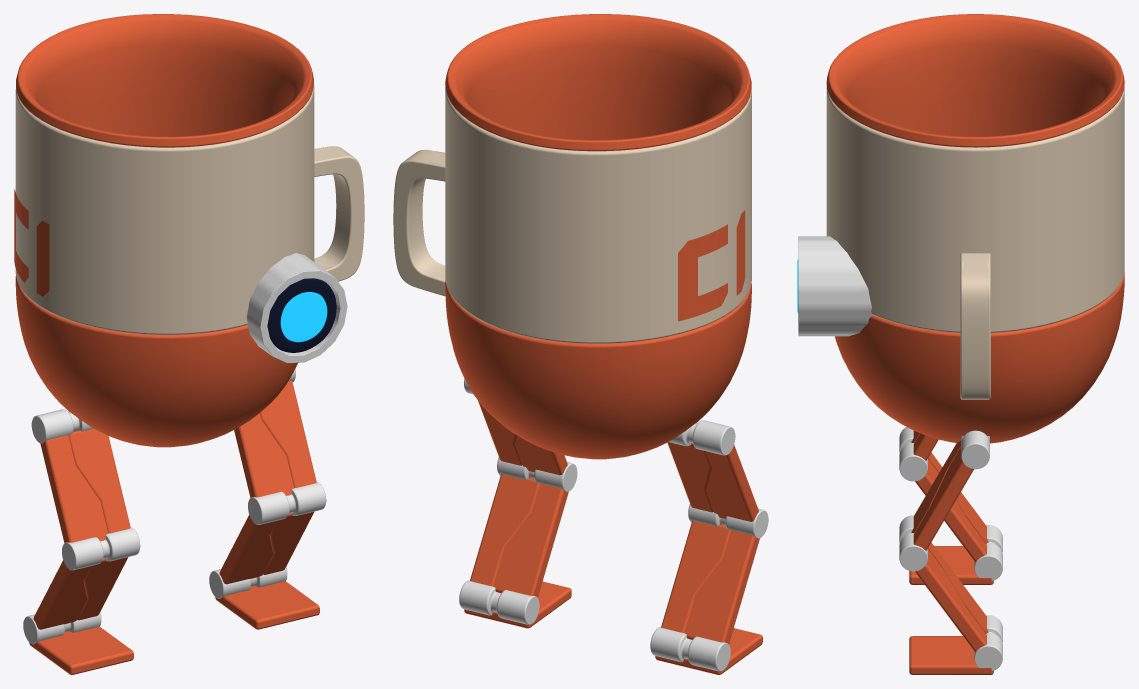
Rendered from robot_cup.glb.
3 renders of one model, left to right at view 1: azimuth 30°, elevation 25°; view 2: azimuth 150°, elevation 25°; view 3: azimuth 270°, elevation 25°, orthographic. The views are drawn at different scales.
Parts seen in each view (by area): view 1: Roundcube, Roundcube.001, Cylinder.001, Cube, Cube.003, Cube.001, Cube.013, Cube.020, Cube.010, Cube.011, Cube.009, Cube.019 (+8 smaller); view 2: Roundcube, Roundcube.001, Cube, Cube.019, Cube.009, Cube.017, Cube.007, Plane, Cube.003, Cylinder.004, Cylinder.007, Cube.001 (+7 smaller); view 3: Roundcube, Roundcube.001, Cylinder.001, Cube, Cube.020, Cube.017, Cube.011, Cube.007, Cube.010, Cylinder.006, Cylinder.004, Cylinder.007 (+5 smaller).
Part boxes in pixels (box(x1,y1,x2,y2)): Roundcube: box(15, 86, 314, 447); Roundcube.001: box(16, 14, 313, 147); Cylinder.001: box(246, 253, 347, 363); Cube: box(314, 146, 364, 281); Cube.003: box(40, 435, 108, 542); Cube.001: box(68, 429, 130, 533); Cube.013: box(234, 413, 294, 497); Cube.020: box(215, 581, 319, 629); Cube.010: box(29, 626, 133, 674); Cube.011: box(260, 381, 316, 487); Cube.009: box(33, 560, 90, 629); Cube.019: box(219, 515, 276, 584); Roundcube: box(445, 86, 751, 459); Roundcube.001: box(445, 14, 751, 151); Cube: box(393, 149, 445, 296); Cube.019: box(493, 483, 568, 597); Cube.009: box(684, 530, 759, 644); Cube.017: box(470, 474, 539, 586); Cube.007: box(661, 521, 730, 632); Plane: box(678, 210, 745, 321); Cube.003: box(705, 445, 758, 521); Cylinder.004: box(650, 627, 730, 671); Cylinder.007: box(459, 580, 539, 624); Cube.001: box(667, 442, 713, 512); Roundcube: box(826, 86, 1124, 443); Roundcube.001: box(826, 14, 1124, 147); Cylinder.001: box(797, 236, 871, 336); Cube: box(960, 253, 990, 399); Cube.020: box(909, 636, 993, 674); Cube.017: box(915, 549, 986, 652); Cube.011: box(913, 447, 973, 550); Cube.007: box(915, 459, 986, 562); Cube.010: box(909, 546, 993, 584); Cylinder.006: box(899, 515, 927, 571); Cylinder.004: box(974, 525, 1002, 580); Cylinder.007: box(974, 615, 1002, 670).
Bounding box in the file's own units: 2.43 × 3.92 × 2.15.
